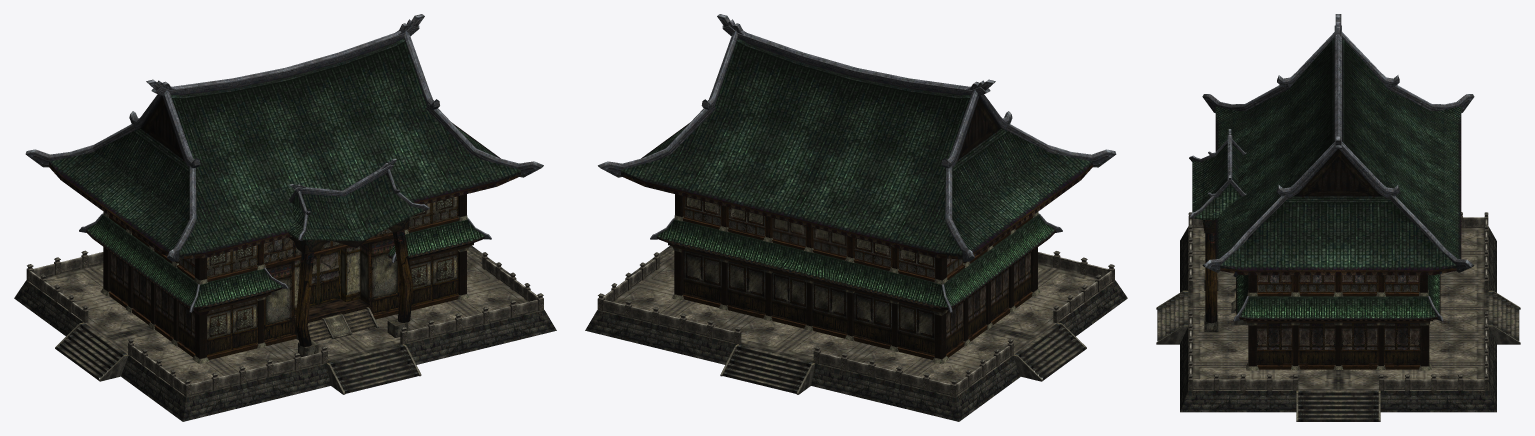
Rendered from c1-010-bank_01.glb.
3 views of the same model, side by side, from view 1: azimuth 30°, elevation 25°; view 2: azimuth 150°, elevation 25°; view 3: azimuth 270°, elevation 25° (orthographic). The views are drawn at different scales.
Visible parts, largest first — view 1: c1-010-bank-01; view 2: c1-010-bank-01; view 3: c1-010-bank-01.
Part boxes in pixels (x1,y1,x2,y2): c1-010-bank-01: (14, 14, 556, 421); c1-010-bank-01: (585, 14, 1127, 421); c1-010-bank-01: (1156, 14, 1520, 421).
Bounding box in the file's own units: 24.99 × 15.27 × 20.19.
4 materials, 4 textured.
